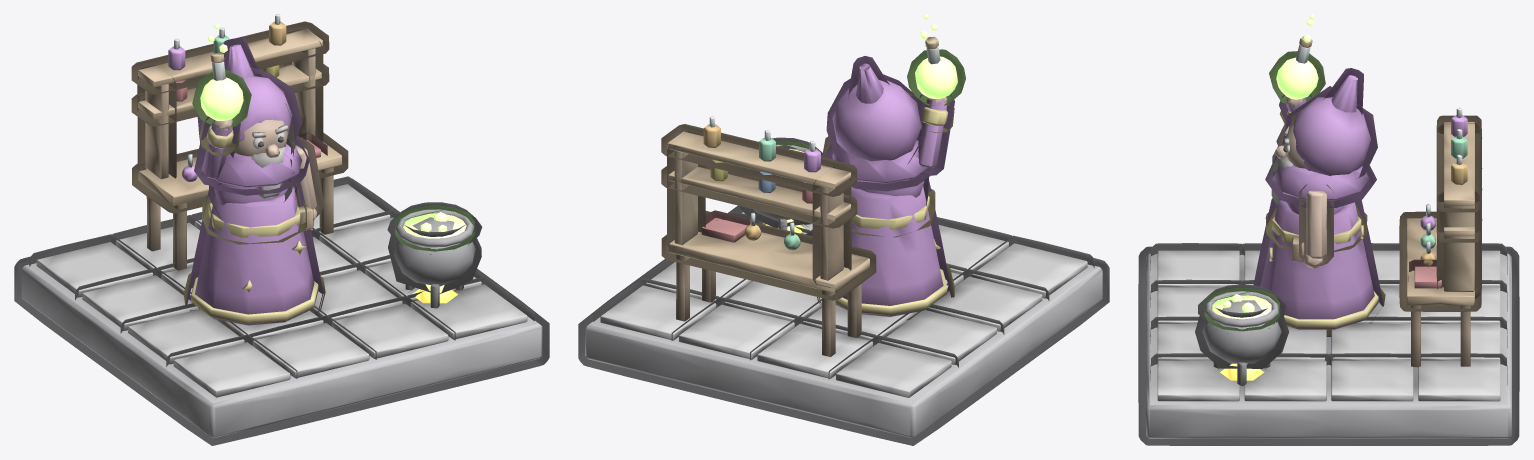
File: alchemist.glb
The picture shows the model from 3 angles, left to right: view 1: azimuth 30°, elevation 25°; view 2: azimuth 150°, elevation 25°; view 3: azimuth 270°, elevation 25°; orthographic projection. The views are drawn at different scales.
Parts seen in each view (by area): view 1: M_Alchemist, M_Alchemist_Outline, M_Body.014, M_Body.014_Outline, M_Orb, M_Arm, M_Orb_Outline, M_Arm_Outline; view 2: M_Alchemist, M_Alchemist_Outline, M_Body.014, M_Body.014_Outline, M_Orb, M_Arm, M_Orb_Outline, M_Arm_Outline; view 3: M_Alchemist, M_Body.014, M_Alchemist_Outline, M_Body.014_Outline, M_Orb, M_Orb_Outline.
Part boxes in pixels (left/top/right/bottom): M_Alchemist: left=21, top=14, right=542, bottom=438; M_Alchemist_Outline: left=14, top=21, right=549, bottom=445; M_Body.014: left=191, top=44, right=318, bottom=325; M_Body.014_Outline: left=183, top=37, right=325, bottom=328; M_Orb: left=200, top=23, right=243, bottom=120; M_Arm: left=201, top=119, right=233, bottom=178; M_Orb_Outline: left=192, top=69, right=251, bottom=128; M_Arm_Outline: left=194, top=116, right=240, bottom=186; M_Alchemist: left=585, top=116, right=1102, bottom=438; M_Alchemist_Outline: left=578, top=124, right=1109, bottom=445; M_Body.014: left=832, top=63, right=947, bottom=316; M_Body.014_Outline: left=817, top=56, right=954, bottom=320; M_Orb: left=915, top=14, right=957, bottom=99; M_Arm: left=918, top=97, right=947, bottom=168; M_Orb_Outline: left=907, top=49, right=965, bottom=105; M_Arm_Outline: left=916, top=94, right=954, bottom=175; M_Alchemist: left=1146, top=107, right=1511, bottom=438; M_Body.014: left=1260, top=75, right=1378, bottom=329; M_Alchemist_Outline: left=1138, top=115, right=1519, bottom=445; M_Body.014_Outline: left=1253, top=68, right=1385, bottom=336; M_Orb: left=1276, top=14, right=1318, bottom=99; M_Orb_Outline: left=1269, top=51, right=1325, bottom=105.
Bounding box in the file's own units: 3.07 × 2.86 × 3.07.
